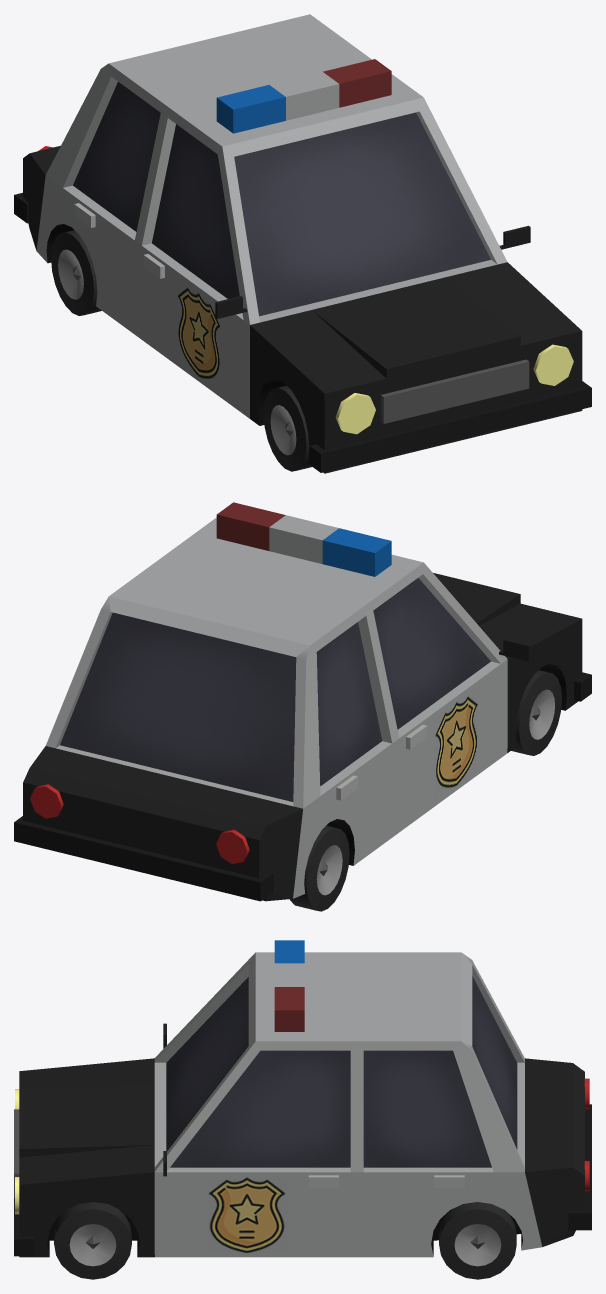
The model's file is Police_Car.fbx.
3 views of the same model, one above another, from view 1: azimuth 30°, elevation 25°; view 2: azimuth 150°, elevation 25°; view 3: azimuth 270°, elevation 25° (orthographic). The views are drawn at different scales.
Visible parts, largest first — view 1: Police_Body, Police_RR, Police_RF; view 2: Police_Body, Police_RR, Police_RF; view 3: Police_Body, Police_LF, Police_LR.
Part boxes in pixels (bbox=[...]): Police_Body: bbox=[14, 14, 591, 473]; Police_RR: bbox=[51, 230, 101, 315]; Police_RF: bbox=[263, 385, 311, 471]; Police_Body: bbox=[14, 502, 591, 901]; Police_RR: bbox=[290, 825, 349, 911]; Police_RF: bbox=[511, 670, 561, 755]; Police_Body: bbox=[14, 940, 591, 1257]; Police_LF: bbox=[54, 1202, 131, 1279]; Police_LR: bbox=[439, 1202, 516, 1279].
Bounding box in the file's own units: 212 × 177 × 373.
Materials: 1 (1 with a texture image).
